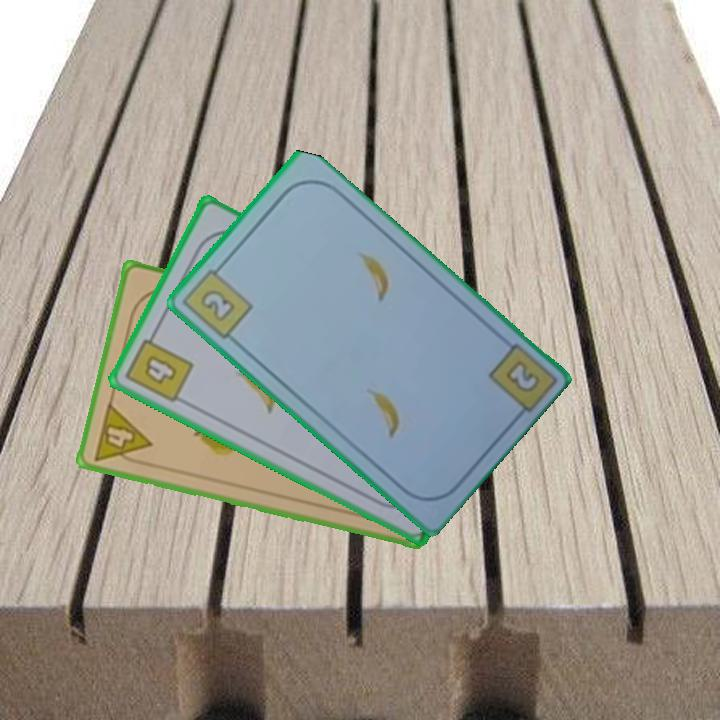2b: (179, 258, 256, 343), (501, 356, 543, 396)
4b: (121, 326, 197, 406)
4p: (90, 399, 154, 470)
